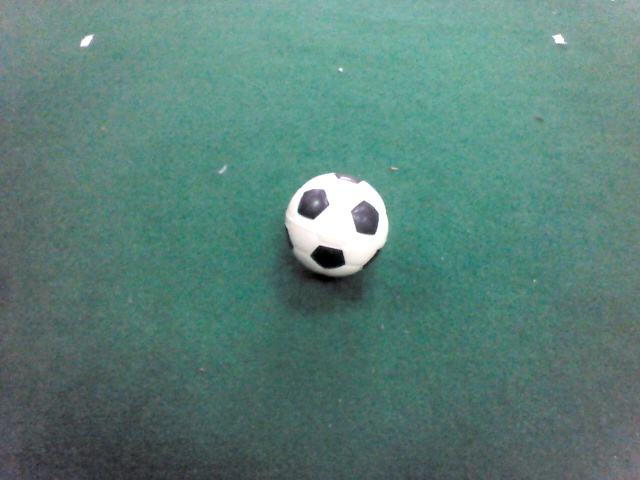ball: (282, 170, 390, 280)
